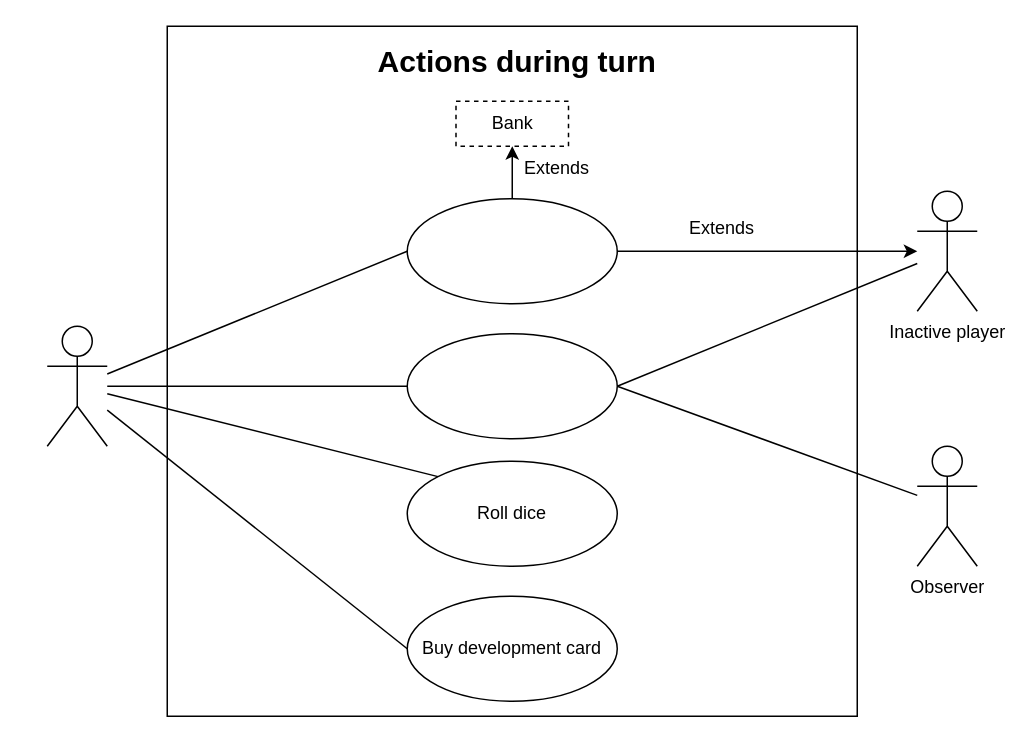
This 1031x743 diagram has some shape labels left out. Here are the shapes that lost their labels. From the top down, the centre of each, then its label:
At point (511, 250): "Trade".
At point (76, 385): "Active player".
At point (511, 385): "View board".
